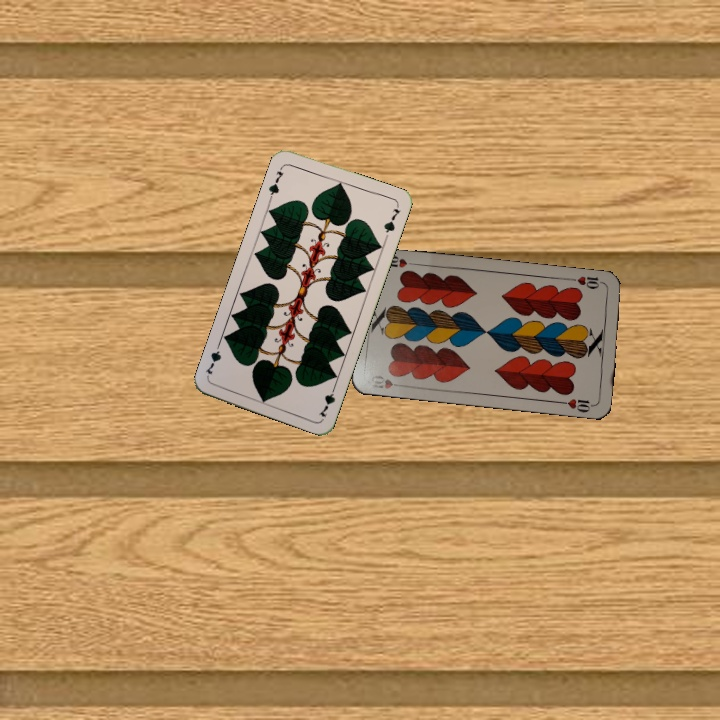G7: (315, 381, 339, 420), (264, 162, 287, 201)
H10: (567, 272, 608, 292), (368, 371, 407, 391)
